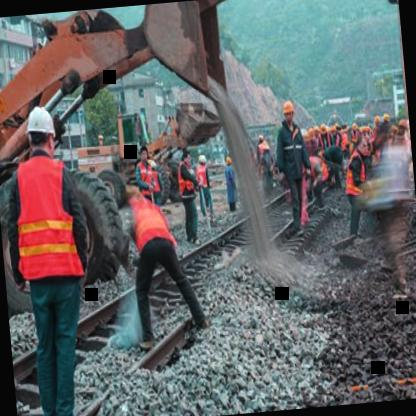head: (136, 142, 152, 165), (180, 147, 194, 167)
helmet: (25, 104, 59, 158), (280, 94, 298, 128)
